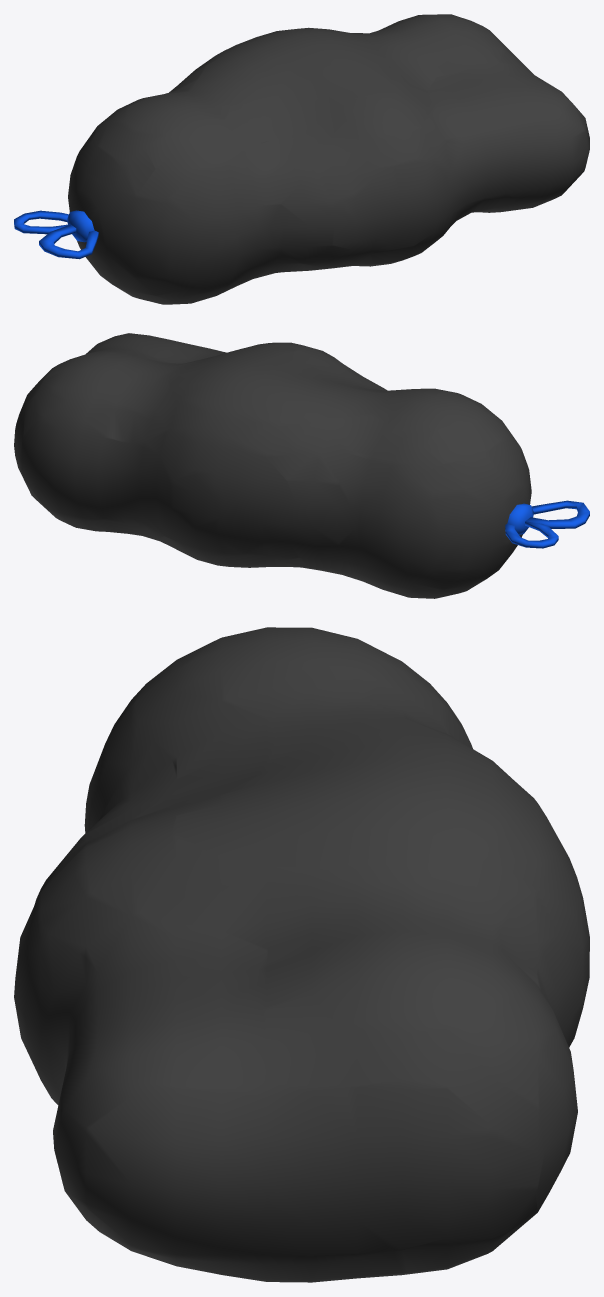
Rendered from Bagged Corpse.fbx.
3 views of the same model, one above another, from view 1: azimuth 30°, elevation 25°; view 2: azimuth 150°, elevation 25°; view 3: azimuth 270°, elevation 25° (orthographic). The views are drawn at different scales.
Parts seen in each view (by area): view 1: Body Bag; view 2: Body Bag; view 3: Body Bag.
Part boxes in pixels (box(x1,y1,x2,y2)): Body Bag: box(14, 14, 589, 304); Body Bag: box(14, 333, 589, 598); Body Bag: box(14, 627, 589, 1282).
Bounding box in the file's own units: 140 × 50.77 × 69.09.
